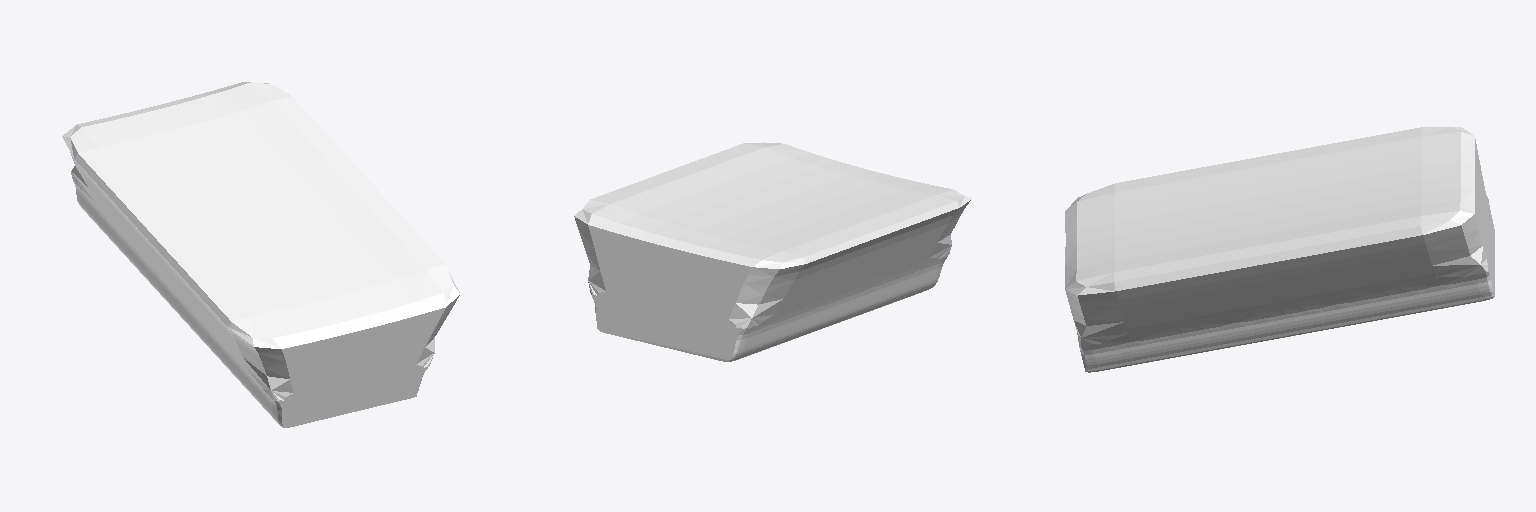
The model's file is LampBtn.obj.
3 views of the same model, side by side, from view 1: azimuth 30°, elevation 25°; view 2: azimuth 150°, elevation 25°; view 3: azimuth 270°, elevation 25° (orthographic).
Visible parts, largest first — view 1: Cube_Cube.001; view 2: Cube_Cube.001; view 3: Cube_Cube.001.
Part boxes in pixels (bbox=[...]): Cube_Cube.001: bbox=[62, 82, 459, 427]; Cube_Cube.001: bbox=[574, 142, 971, 361]; Cube_Cube.001: bbox=[1065, 127, 1494, 372].
Bounding box in the file's own units: 0.4229 × 0.3197 × 0.7159.